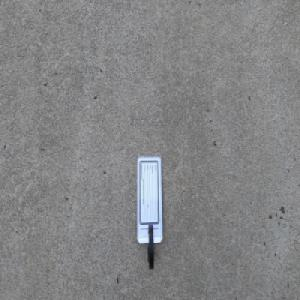LuggageTag: (135, 155, 163, 271)
